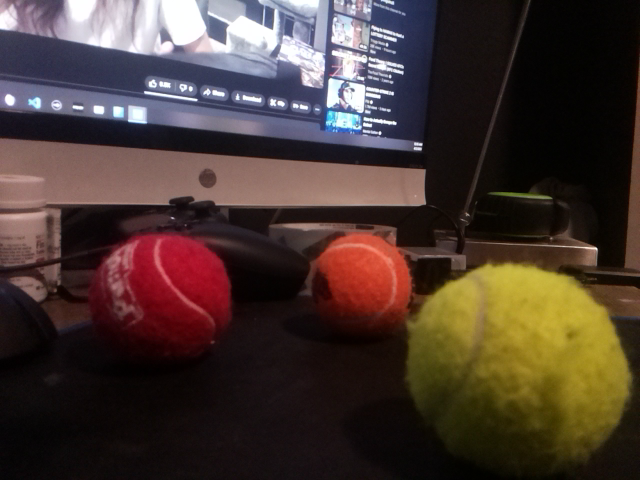orange-ball: (310, 232, 415, 344)
red-ball: (87, 230, 233, 370)
yellow-ball: (403, 259, 632, 477)
